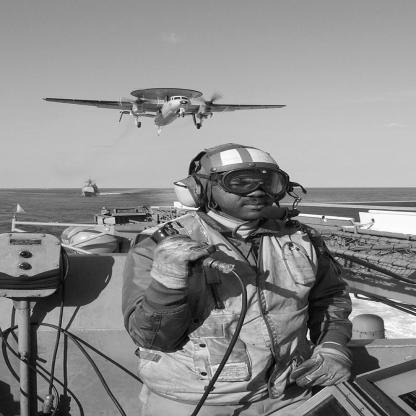E2: (43, 89, 288, 137)
